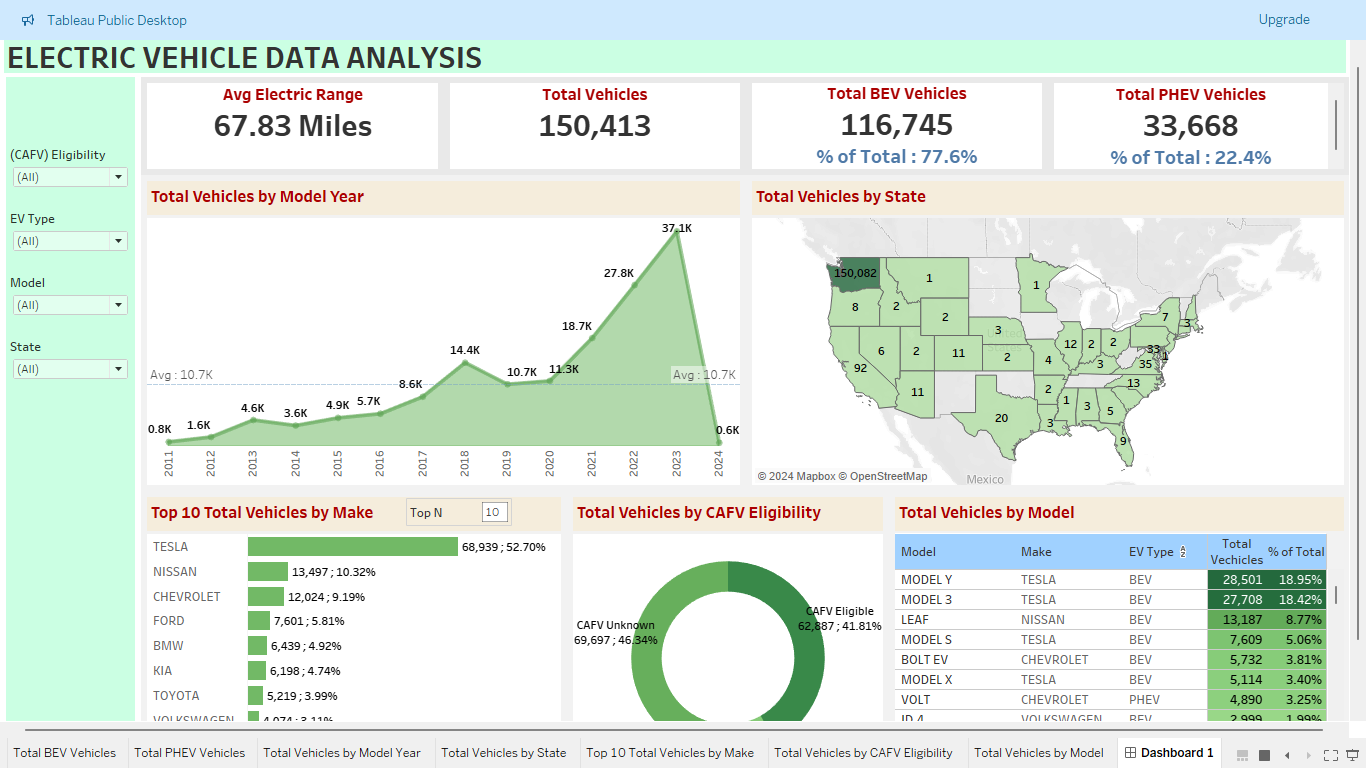

This screenshot's page, from the dashboard's own definition file:
{"tool":"tableau","page":{"name":"Dashboard 1","canvas":[1366,768],"ordinal":0},"visuals":[{"type":"title","box":[8,8,1350,40.8]},{"type":"image","param":"C:/Users/Jesus/Downloads/hhh.png","box":[14,49,129,65]},{"type":"worksheet","title":"Avg Vehicle Range","mark":"Automatic","box":[149,49,303,98]},{"type":"worksheet","title":"Total Vehicles","mark":"Automatic","box":[452,49,302,98]},{"type":"worksheet","title":"Total BEV Vehicles","mark":"Automatic","box":[754,49,302,98]},{"type":"worksheet","title":"Total PHEV Vehicles","mark":"Automatic","box":[1056,49,302,98]},{"type":"filter","title":"Total Vehicles by Model Year","param":"[federated.0p46nqv1fedse41a8lh641a4mv3q].[none:Clean Alternative Fuel Vehicle (C","box":[14,114,129,64]},{"type":"worksheet","title":"Total Vehicles by Model Year","mark":"Area","rows":["Calculation_1548956844243578880","Calculation_1548956844243578880"],"cols":["Model Year"],"box":[148.6,147,605.1,316.1]},{"type":"worksheet","title":"Total Vehicles by State","mark":"Multipolygon","box":[753.6,147,604.3,316.1]},{"type":"filter","title":"Total Vehicles by Model Year","param":"[federated.0p46nqv1fedse41a8lh641a4mv3q].[none:Electric Vehicle Type:nk]","box":[14,178,129,64]},{"type":"filter","title":"Total Vehicles by Model Year","param":"[federated.0p46nqv1fedse41a8lh641a4mv3q].[none:Model:nk]","box":[14,242,129,64]},{"type":"filter","title":"Total Vehicles by Model Year","param":"[federated.0p46nqv1fedse41a8lh641a4mv3q].[none:State:nk]","box":[14,306,129,64]},{"type":"blank","box":[14,370,129,64]},{"type":"blank","box":[14,434,129,64]},{"type":"worksheet","title":"Top 10 Total Vehicles by Make","mark":"Automatic","rows":["Make"],"cols":["Calculation_1548956844243578880"],"box":[148.6,463.1,426,296.9]},{"type":"worksheet","title":"Total Vehicles by CAFV Eligibility","mark":"Pie","rows":["Calculation_1083960185608138754","Calculation_1083960185608138754"],"box":[574.6,463.1,322.4,296.9]},{"type":"worksheet","title":"Total Vehicles by Model","mark":"Square","rows":["Model","Make","Electric Vehicle Type"],"box":[897,463.1,461,296.9]},{"type":"parameter","param":"[Parameters].[Parameter 1]","box":[414.1,470.2,105.9,28.2]},{"type":"blank","box":[14,498,129,64]},{"type":"blank","box":[14,562,129,64]},{"type":"blank","box":[14,626,129,64]},{"type":"blank","box":[14,690,129,64]}]}

Visuals, with their boxes on the page's 1366x768 design canvas (x1, y1, x2, y2). These are canvas units, not pixel positions in the 1366x768 screenshot, which may show the page scaled, cropped or inside an application window:
title: [8, 8, 1358, 49]
image: [14, 49, 143, 114]
"Avg Vehicle Range" worksheet: [149, 49, 452, 147]
"Total Vehicles" worksheet: [452, 49, 754, 147]
"Total BEV Vehicles" worksheet: [754, 49, 1056, 147]
"Total PHEV Vehicles" worksheet: [1056, 49, 1358, 147]
"Total Vehicles by Model Year" filter: [14, 114, 143, 178]
"Total Vehicles by Model Year" worksheet (Area marks): [149, 147, 754, 463]
"Total Vehicles by State" worksheet (Multipolygon marks): [754, 147, 1358, 463]
"Total Vehicles by Model Year" filter: [14, 178, 143, 242]
"Total Vehicles by Model Year" filter: [14, 242, 143, 306]
"Total Vehicles by Model Year" filter: [14, 306, 143, 370]
blank: [14, 370, 143, 434]
blank: [14, 434, 143, 498]
"Top 10 Total Vehicles by Make" worksheet: [149, 463, 575, 760]
"Total Vehicles by CAFV Eligibility" worksheet (Pie marks): [575, 463, 897, 760]
"Total Vehicles by Model" worksheet (Square marks): [897, 463, 1358, 760]
parameter: [414, 470, 520, 498]
blank: [14, 498, 143, 562]
blank: [14, 562, 143, 626]
blank: [14, 626, 143, 690]
blank: [14, 690, 143, 754]
